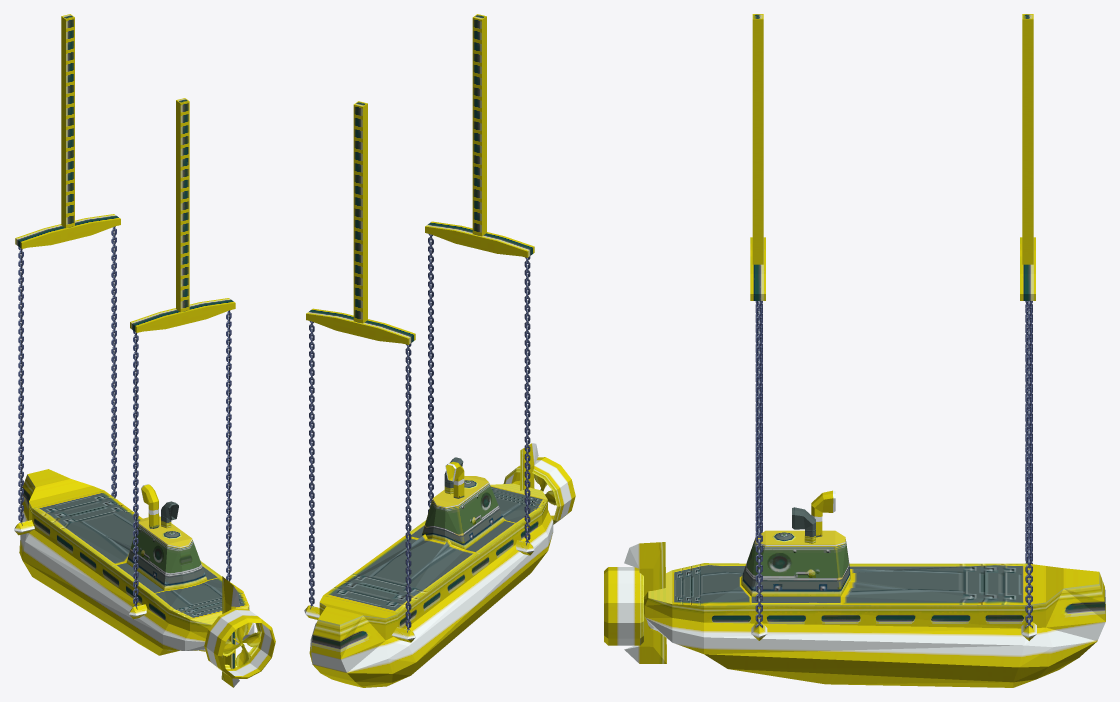
Rendered from submarine.dae.
3 views of the same model, side by side, from view 1: azimuth 30°, elevation 25°; view 2: azimuth 150°, elevation 25°; view 3: azimuth 270°, elevation 25° (orthographic). The views are drawn at different scales.
Parts seen in each view (by area): view 1: m0, m1; view 2: m0, m1; view 3: m0, m1.
Boxes of the visible parts, x1,y1,x2,y2 form: m0: (14, 14, 275, 687); m1: (18, 226, 231, 609); m0: (304, 14, 575, 687); m1: (309, 234, 530, 632); m0: (604, 14, 1105, 687); m1: (755, 301, 1032, 628).
Size of the model in its own units: 924 by 4610 by 3175.
Materials: 2 (2 with a texture image).
